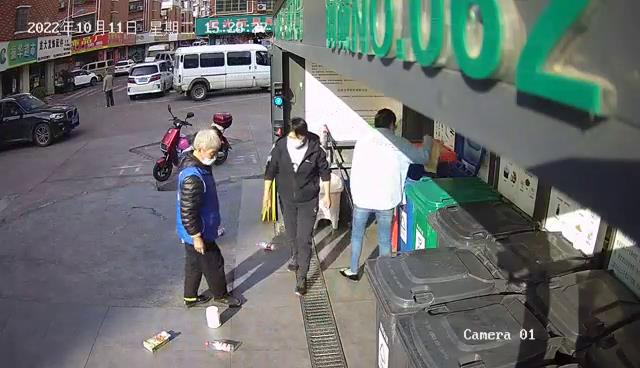lvzhipin: (203, 303, 224, 330)
person: (338, 104, 438, 285), (259, 114, 333, 301)
suliaozhipin: (201, 336, 239, 355), (252, 238, 279, 253)
worker: (175, 127, 245, 311)
zhizhipin: (141, 328, 175, 355)
